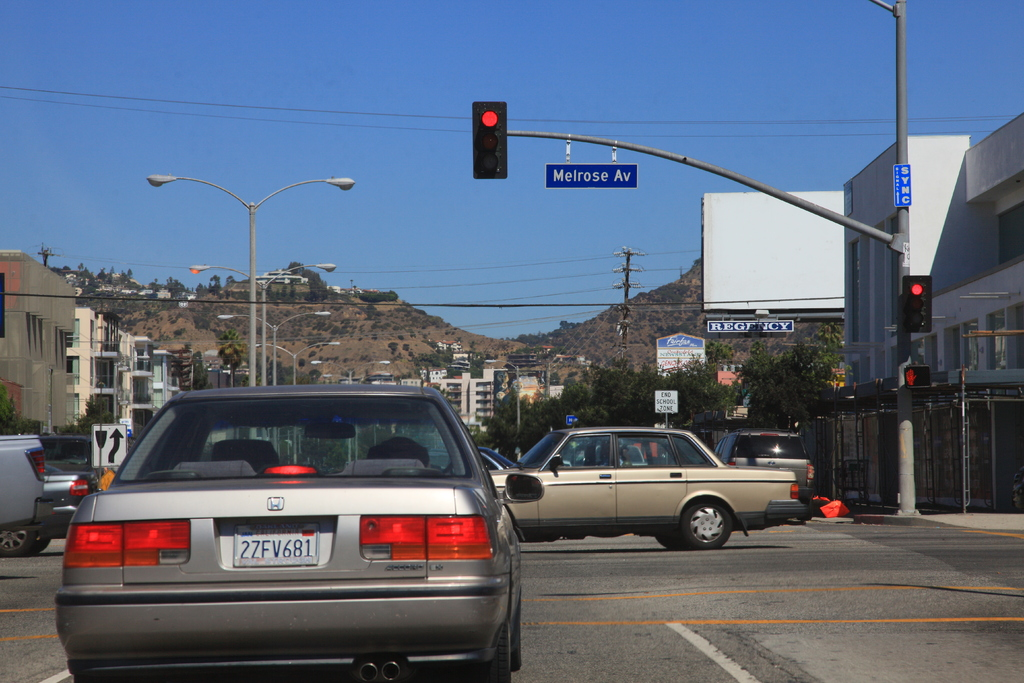red_light: (472, 105, 504, 176), (904, 277, 931, 329)
